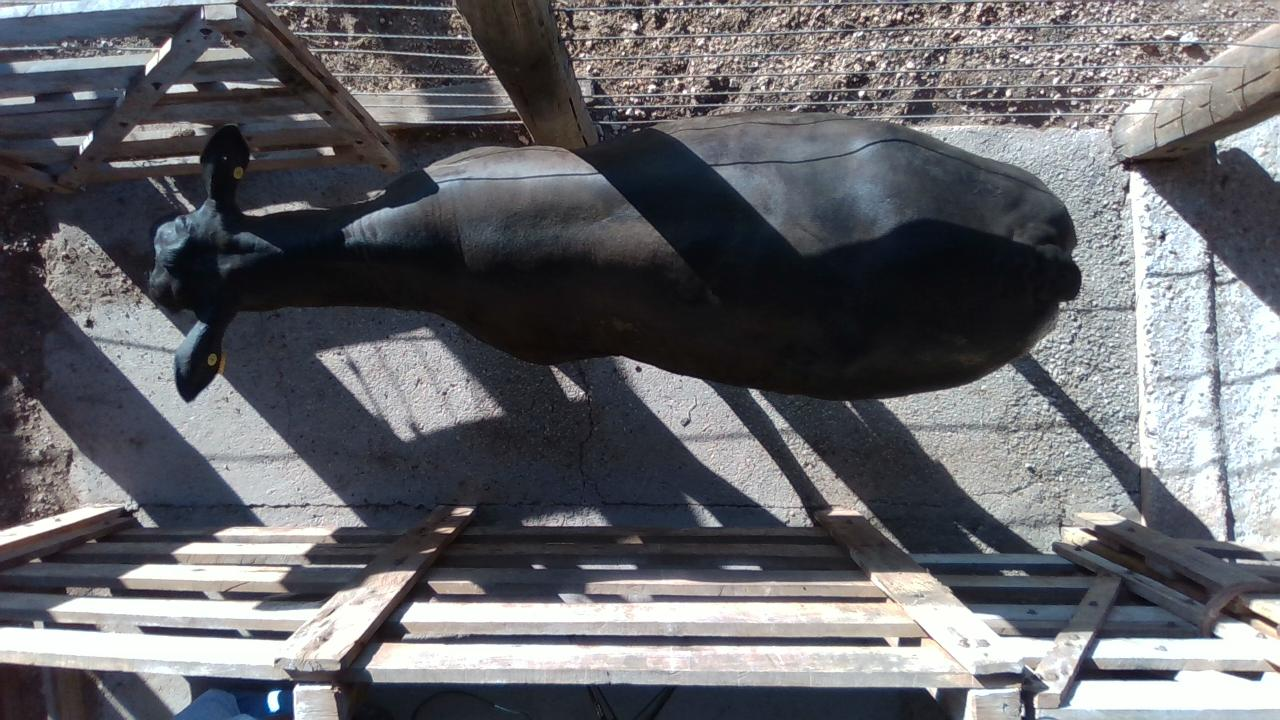cattle: (146, 110, 1082, 404)
